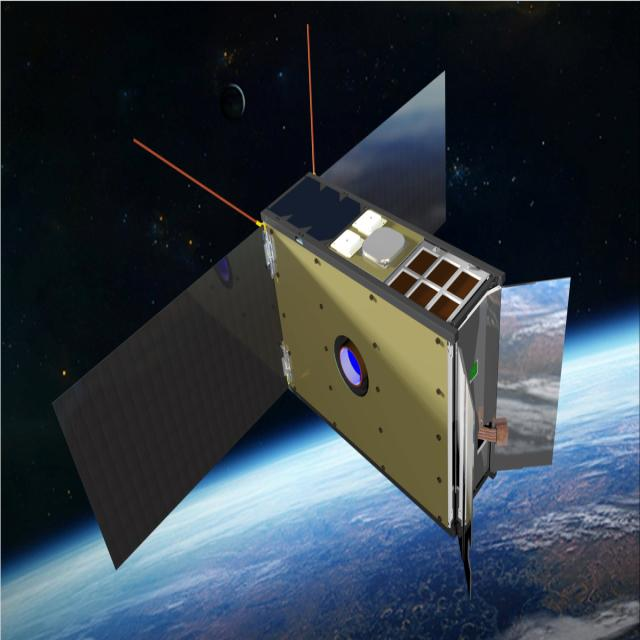satellite: (48, 36, 574, 604)
